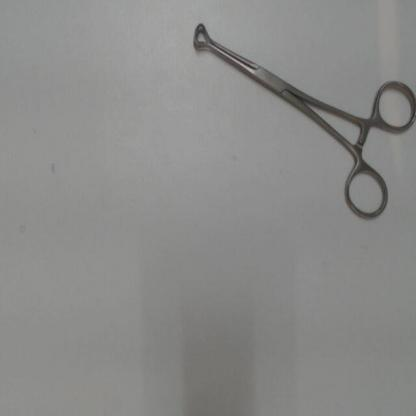Babcock Tissue Forceps: (190, 18, 415, 225)
